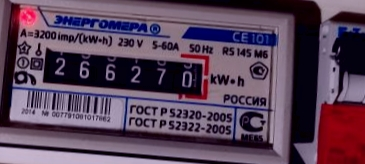0: (179, 69, 194, 90)
2: (52, 56, 67, 78), (129, 64, 143, 85)
6: (77, 59, 91, 81), (103, 62, 118, 82)
7: (155, 67, 166, 86)
screen: (30, 37, 217, 108)
